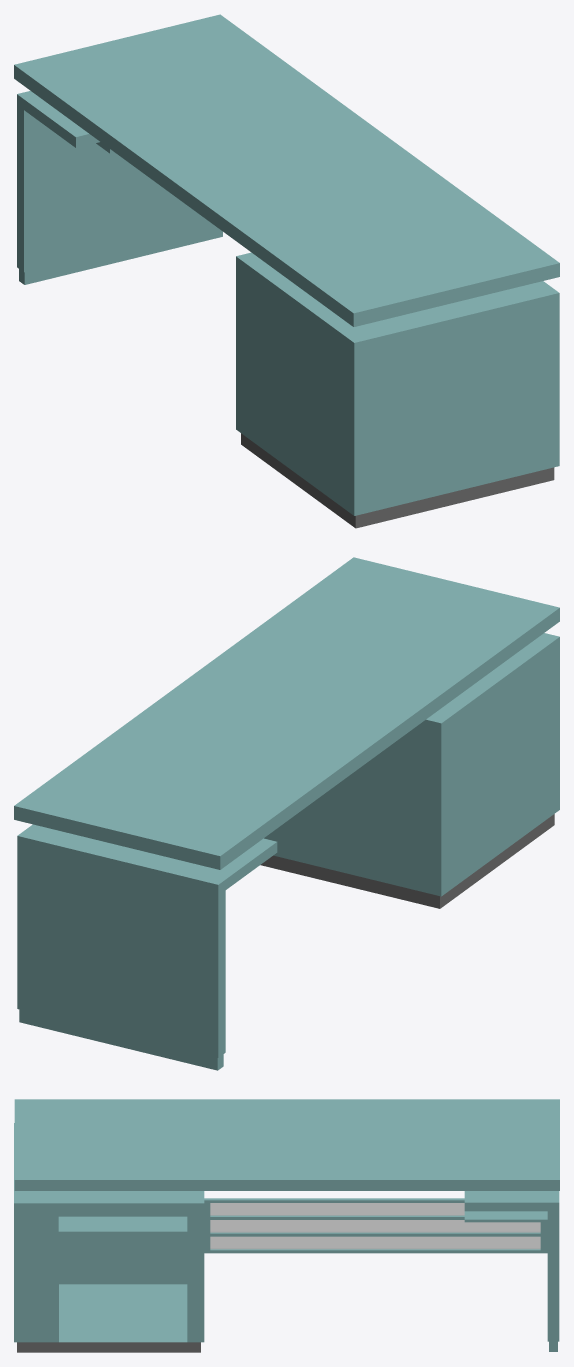
Rendered from desk.glb.
The picture shows the model from 3 angles, top to bottom: view 1: azimuth 30°, elevation 25°; view 2: azimuth 150°, elevation 25°; view 3: azimuth 270°, elevation 25°; orthographic projection. The views are drawn at different scales.
Size of the model in its own units: 31.17 by 31.36 by 88.98.
